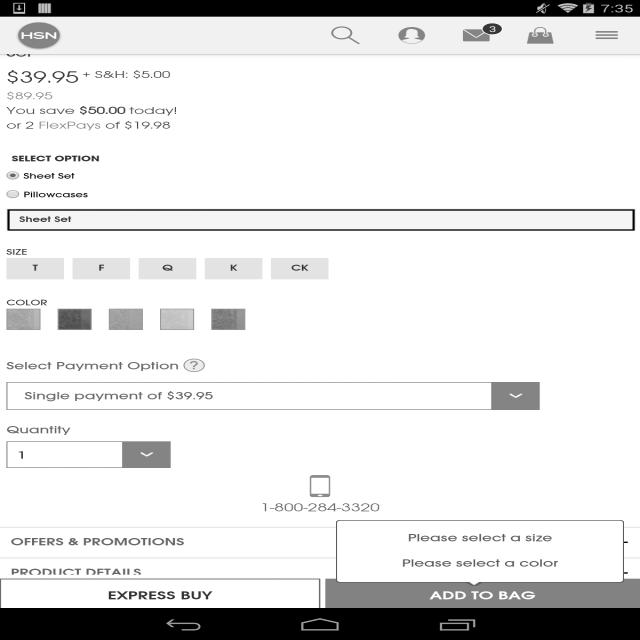Button: (6, 516, 540, 544), (0, 579, 320, 612), (325, 579, 640, 612), (6, 575, 171, 602)
ImageView: (311, 17, 380, 54), (14, 19, 64, 52), (393, 24, 430, 47), (458, 24, 495, 47), (522, 24, 559, 47)
RadioButton: (6, 306, 634, 318), (6, 324, 634, 336), (0, 392, 329, 413), (0, 391, 262, 413), (0, 442, 245, 464), (0, 391, 196, 413), (0, 443, 194, 464), (0, 443, 143, 464), (0, 392, 130, 413), (0, 443, 92, 464), (0, 392, 64, 413), (0, 443, 41, 464)
TextView: (571, 16, 640, 54), (482, 23, 503, 35)
